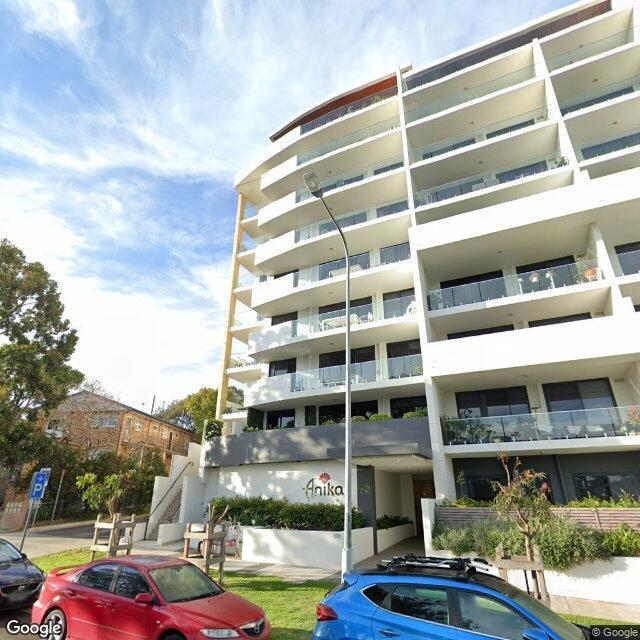steel-pole: (342, 281, 351, 585)
streetlight: (302, 172, 350, 280)
